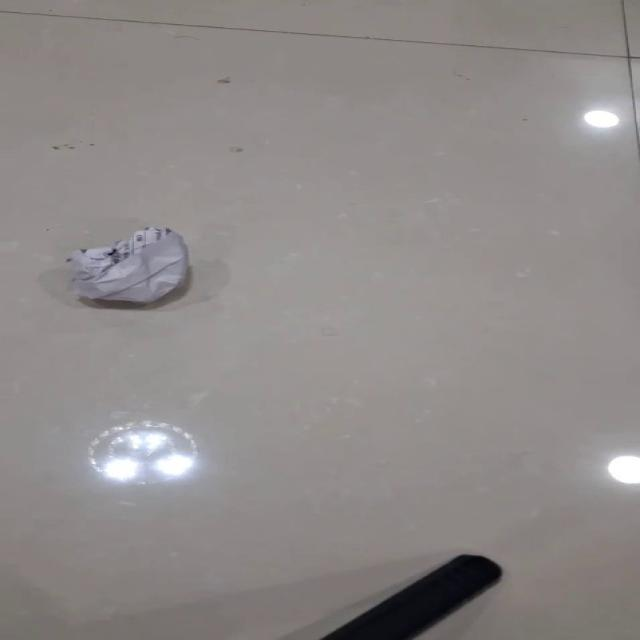paper: (64, 225, 189, 304)
